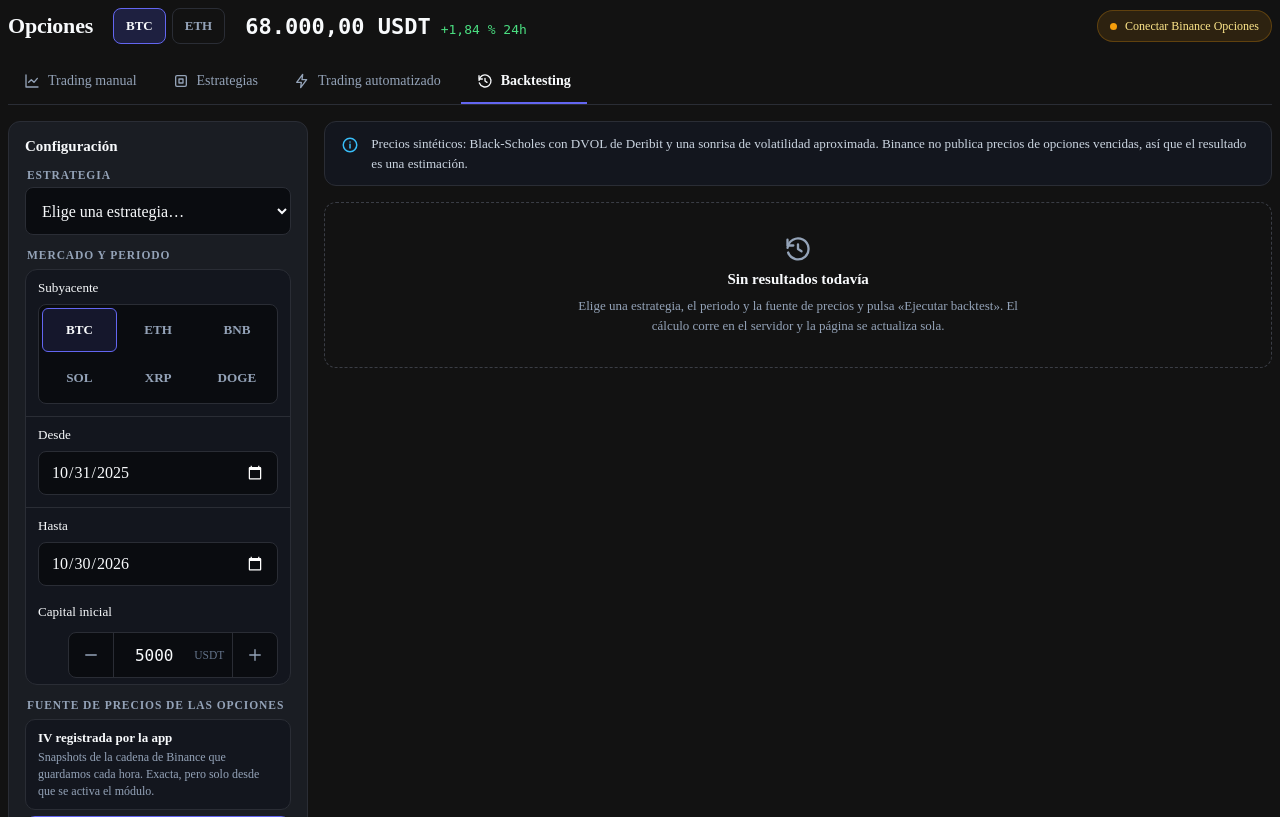
Scenario: OptionsPage › sincroniza la pestaña con ?tab=
Click the link "Estrategias".
click(215, 81)  # box [172,73,258,89]
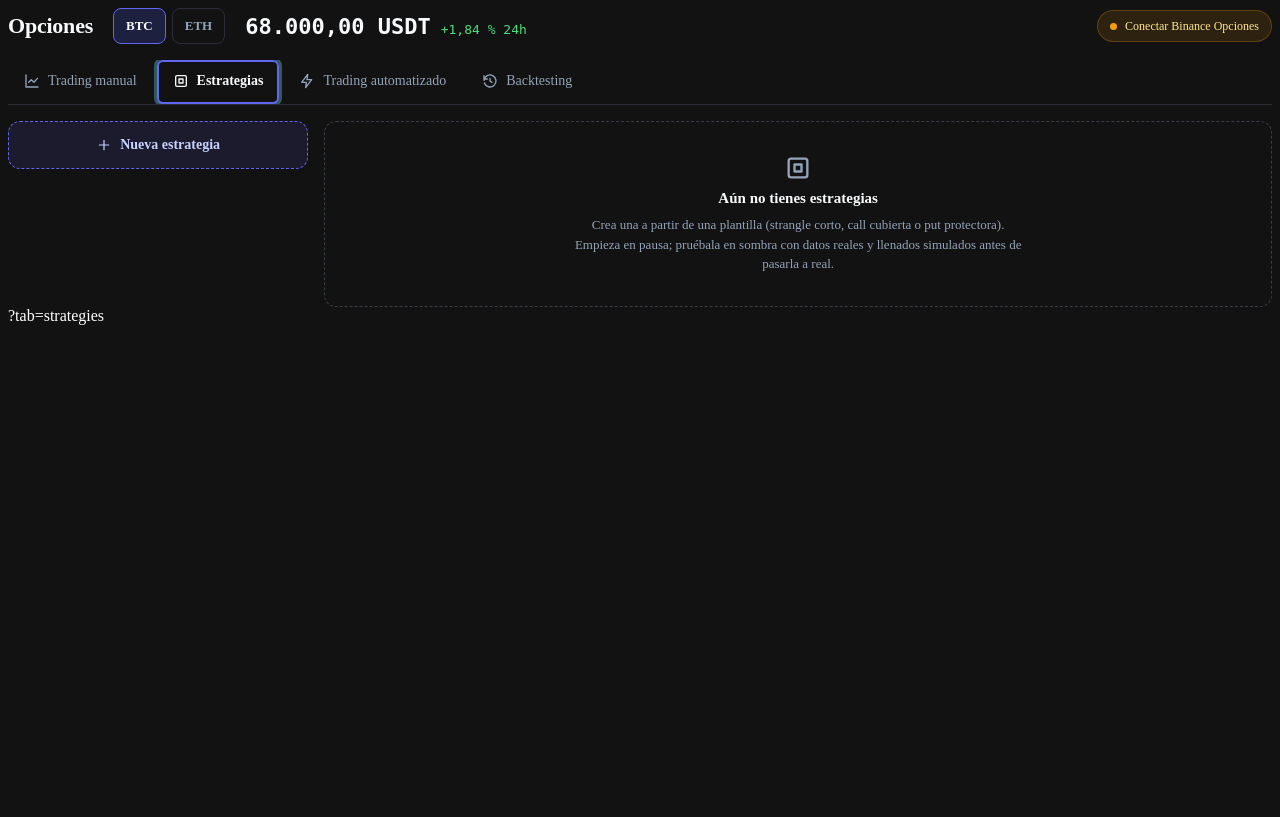
Result: the text with test id "search" reads "?tab=strategies" at [8,306,104,324]
Result: the button "Nueva estrategia" is shown at [8,121,308,169]
Click the link "Trading manual".
click(80, 81)  # box [24,73,136,89]
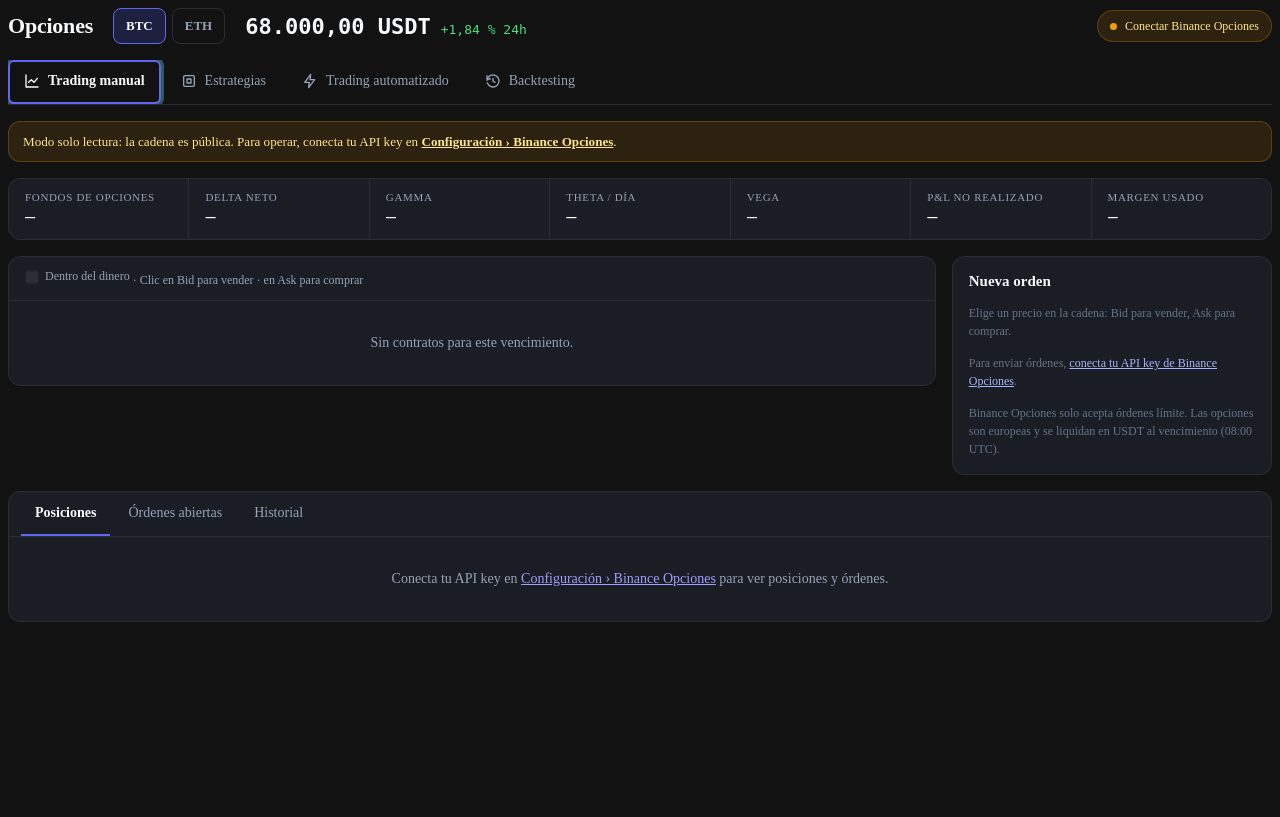
Result: the element named "Cadena de opciones" is shown at [8,256,936,386]
